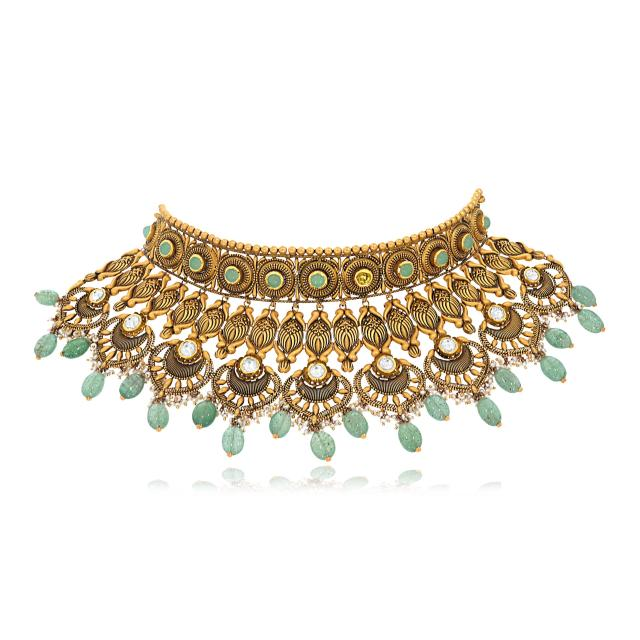missing gem: (356, 271, 370, 285)
